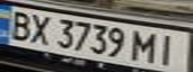3: (51, 16, 75, 51), (87, 21, 109, 56)
7: (69, 19, 93, 53)
9: (106, 25, 130, 60)
B: (3, 8, 36, 42)
I: (154, 32, 184, 66)
M: (127, 28, 163, 64)
X: (24, 11, 54, 46)
